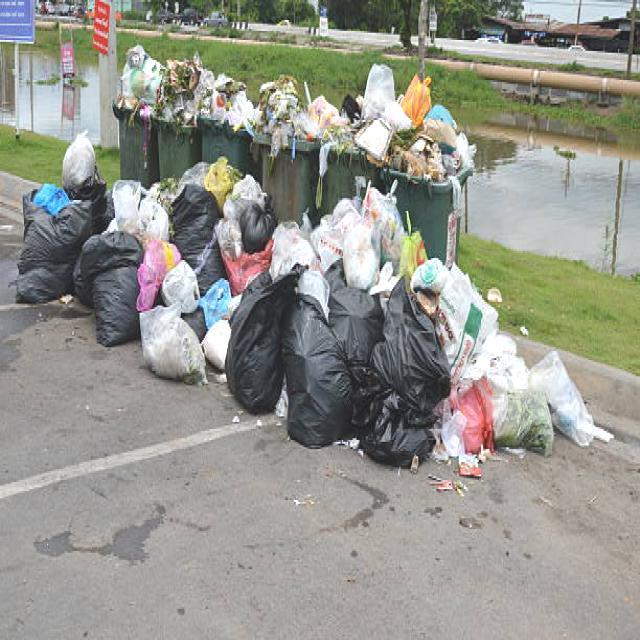high trash: (16, 135, 611, 476), (121, 46, 472, 181)
